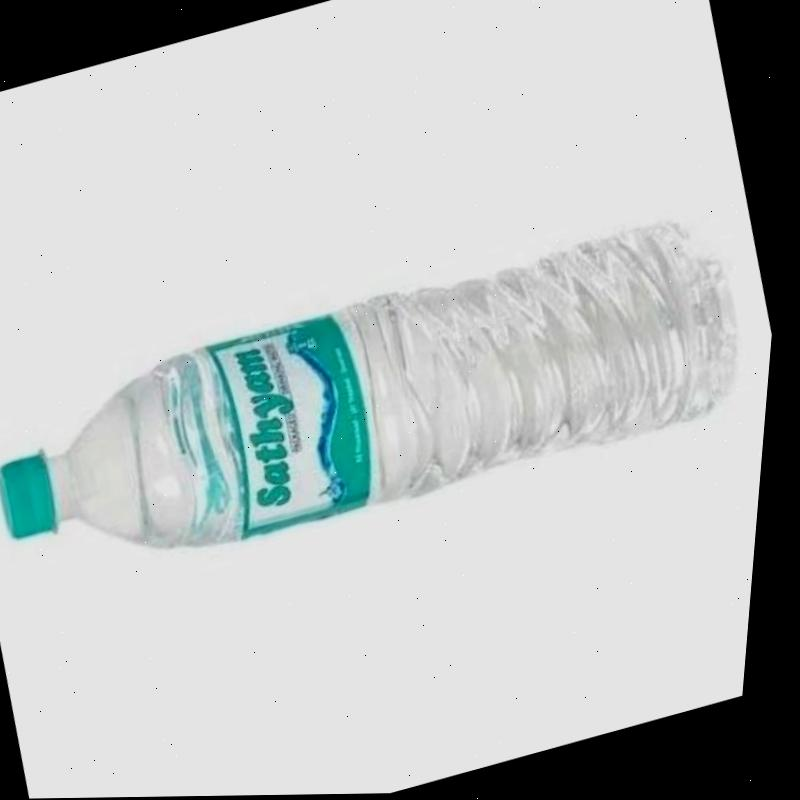botella: (0, 204, 773, 610)
